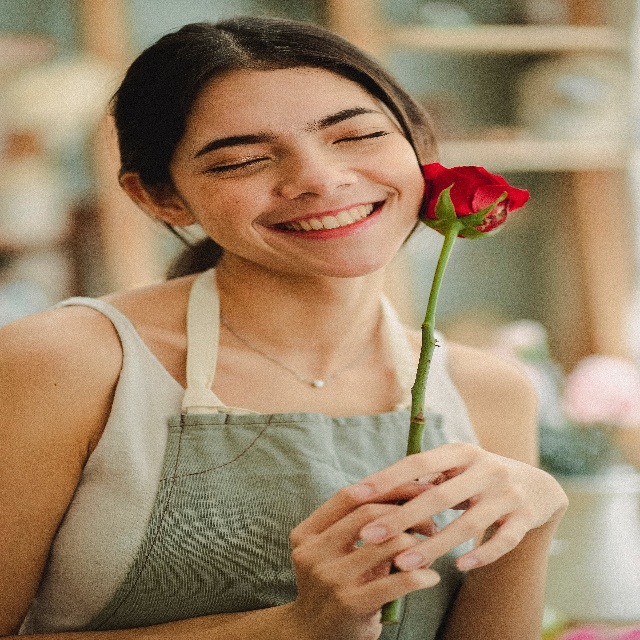Sin_guantes: (347, 423, 565, 581), (290, 490, 441, 618)
